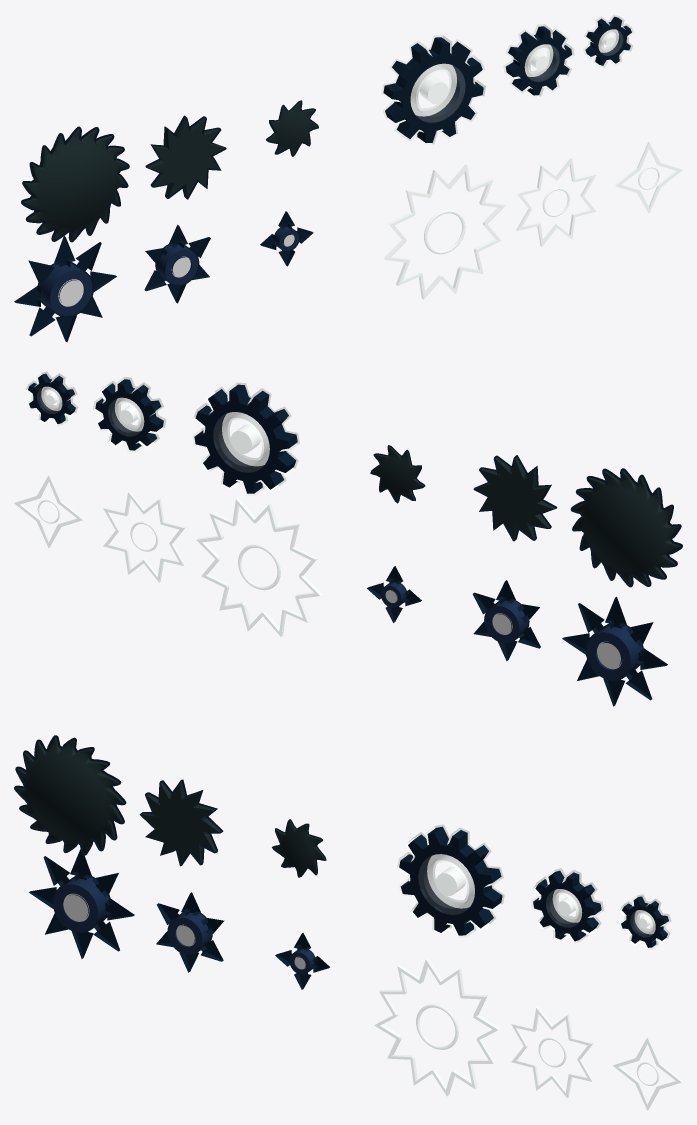
Rendered from saws.glb.
The picture shows the model from 3 angles, top to bottom: view 1: azimuth 30°, elevation 25°; view 2: azimuth 150°, elevation 25°; view 3: azimuth 330°, elevation 25°; orthographic projection. The views are drawn at different scales.
Visible parts, largest first — view 1: Plane, Cylinder.006, Plane.001, Cylinder.007, Cylinder, Cube, Cylinder.001, Cylinder.008, Plane.002, Cube.004, Cylinder.002, Cylinder.004 (+4 smaller); view 2: Plane, Cylinder.006, Plane.001, Cylinder.007, Cylinder, Cube, Cylinder.001, Cylinder.008, Plane.002, Cube.004, Cylinder.004, Cylinder.002 (+5 smaller); view 3: Plane, Cylinder.006, Plane.001, Cylinder.007, Cylinder, Cube, Cylinder.001, Cylinder.008, Plane.002, Cube.004, Cylinder.002, Cylinder.004 (+3 smaller).
Part boxes in pixels (x1,y1,x2,y2): Plane: [21, 126, 129, 242]; Cylinder.006: [381, 35, 485, 145]; Plane.001: [145, 115, 226, 199]; Cylinder.007: [503, 24, 574, 97]; Cylinder: [14, 236, 116, 342]; Cube: [383, 164, 505, 299]; Cylinder.001: [37, 262, 93, 317]; Cylinder.008: [583, 14, 634, 67]; Plane.002: [266, 100, 318, 156]; Cube.004: [516, 158, 596, 246]; Cylinder.002: [144, 224, 210, 303]; Cylinder.004: [155, 244, 199, 286]; Plane: [570, 468, 682, 587]; Cylinder.006: [192, 382, 299, 495]; Plane.001: [473, 455, 557, 541]; Cylinder.007: [93, 377, 166, 452]; Cylinder: [562, 596, 667, 706]; Cube: [196, 497, 322, 636]; Cylinder.001: [585, 623, 643, 680]; Cylinder.008: [25, 371, 78, 426]; Plane.002: [370, 445, 425, 503]; Cube.004: [103, 491, 185, 582]; Cylinder.004: [484, 600, 529, 643]; Cylinder.002: [472, 580, 540, 660]; Plane: [14, 735, 126, 855]; Cylinder.006: [397, 824, 504, 937]; Plane.001: [139, 779, 223, 866]; Cylinder.007: [530, 868, 603, 943]; Cylinder: [29, 849, 134, 958]; Cube: [374, 957, 500, 1096]; Cylinder.001: [52, 876, 110, 932]; Cylinder.008: [618, 894, 671, 949]; Plane.002: [272, 819, 326, 877]; Cube.004: [511, 1006, 593, 1098]; Cylinder.002: [156, 892, 224, 972]; Cylinder.004: [167, 912, 212, 955].
Size of the model in its own units: 6.4 by 2.36 by 0.4092.
